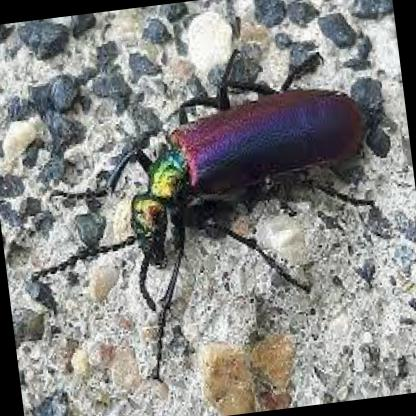blister beetle: (128, 54, 366, 267)
